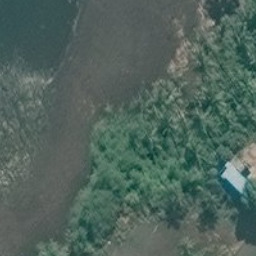buildings: (215, 161, 256, 195)
